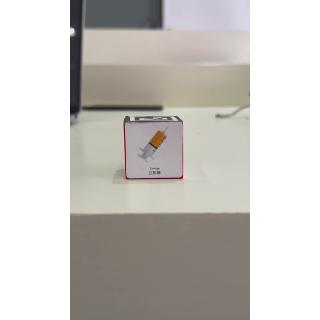Syringe: (123, 123, 185, 181)
